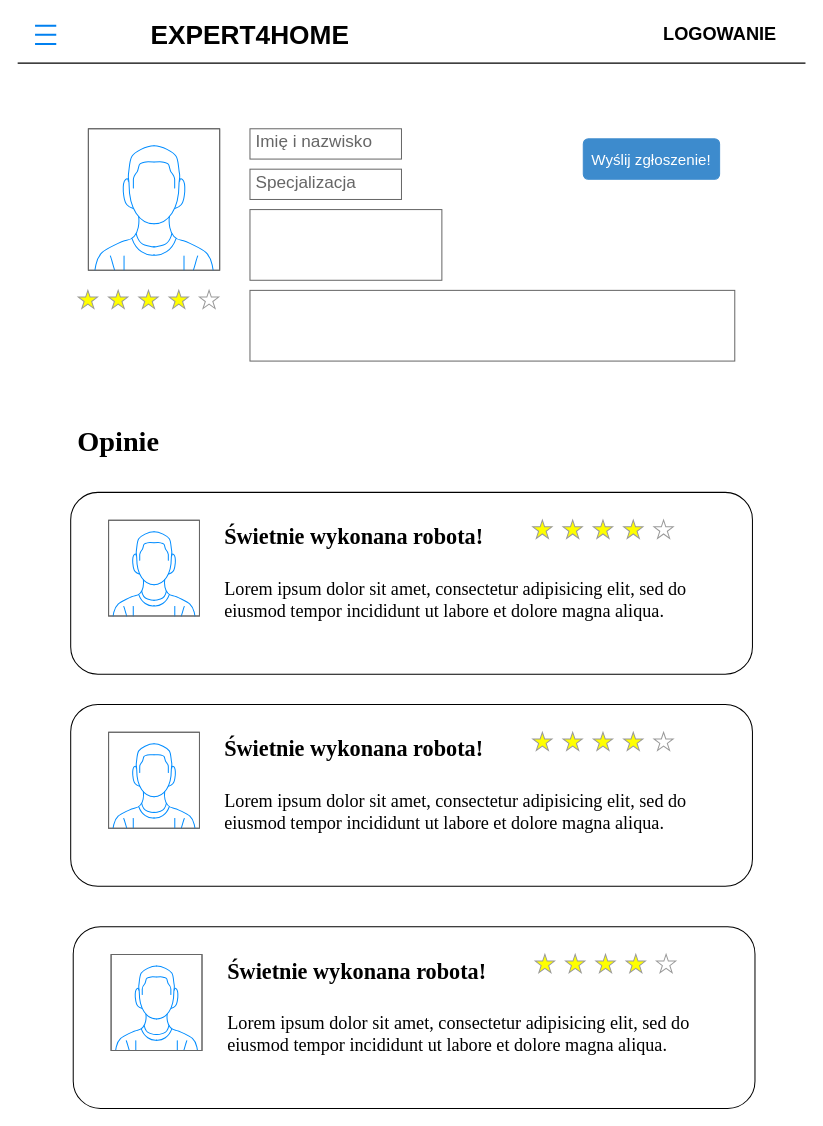
Image size: 823x1126. Some labels were removed from this diagram. The box of each missing label's shape, as (x1, y1, x2, y2) in pixels:
Kontakt: +48 777 777 777 email@email.com: (249, 209, 442, 280)
Opis: (249, 289, 735, 361)
